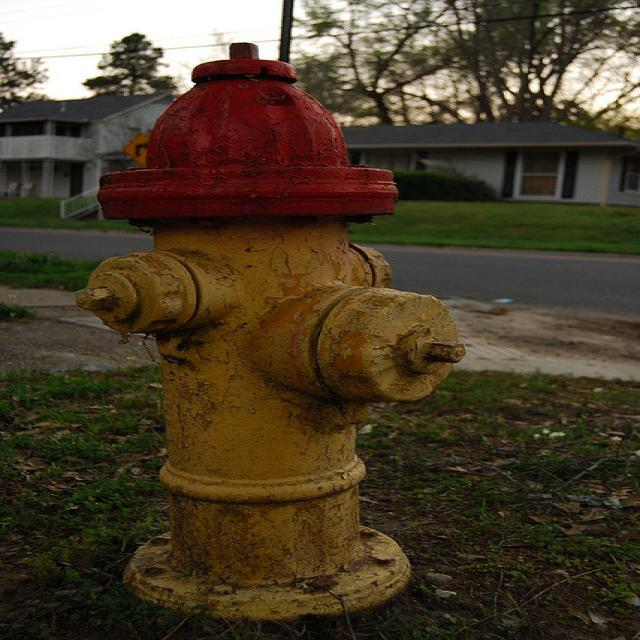fire_hydrant: (87, 38, 474, 615)
